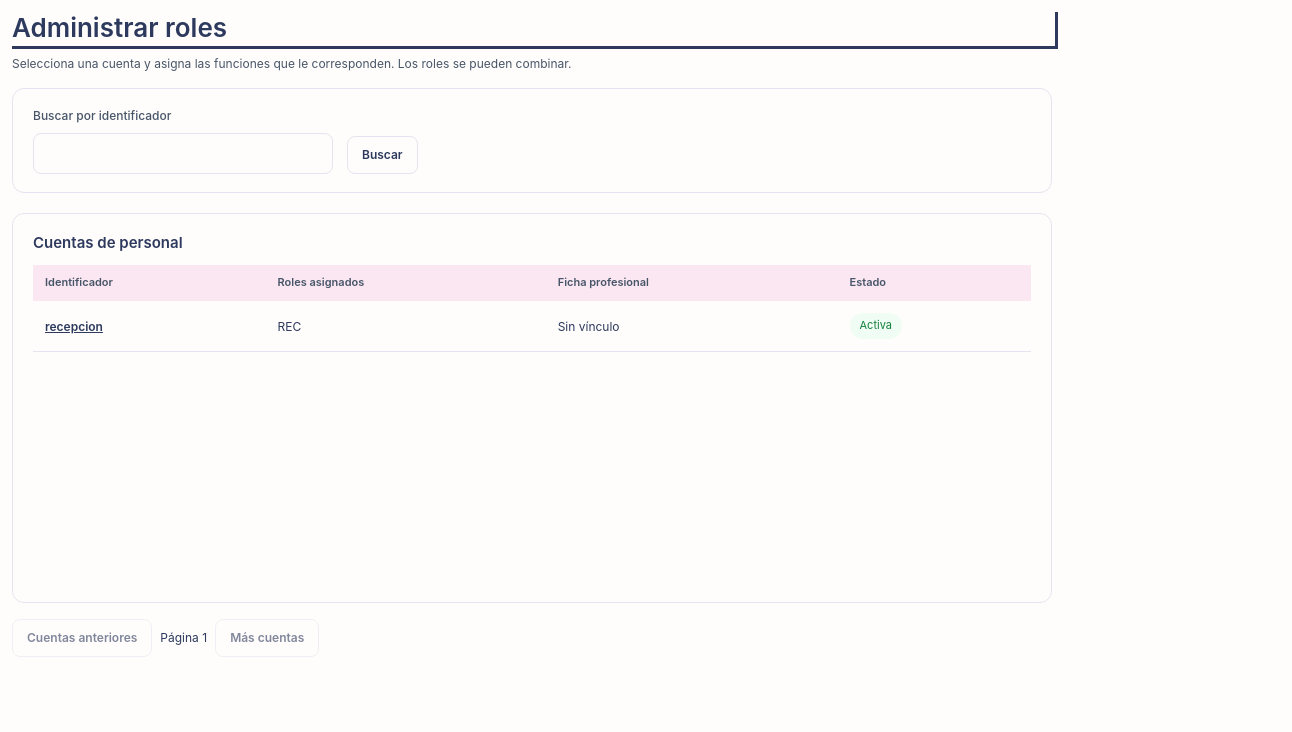
Test: Administración de roles › bloquea una edición obsoleta hasta recargar
The image size is (1292, 732).
Click the button with aria-label "recepcion · Activa" at (74, 326), box x1=45 y1=311 x2=103 y2=341
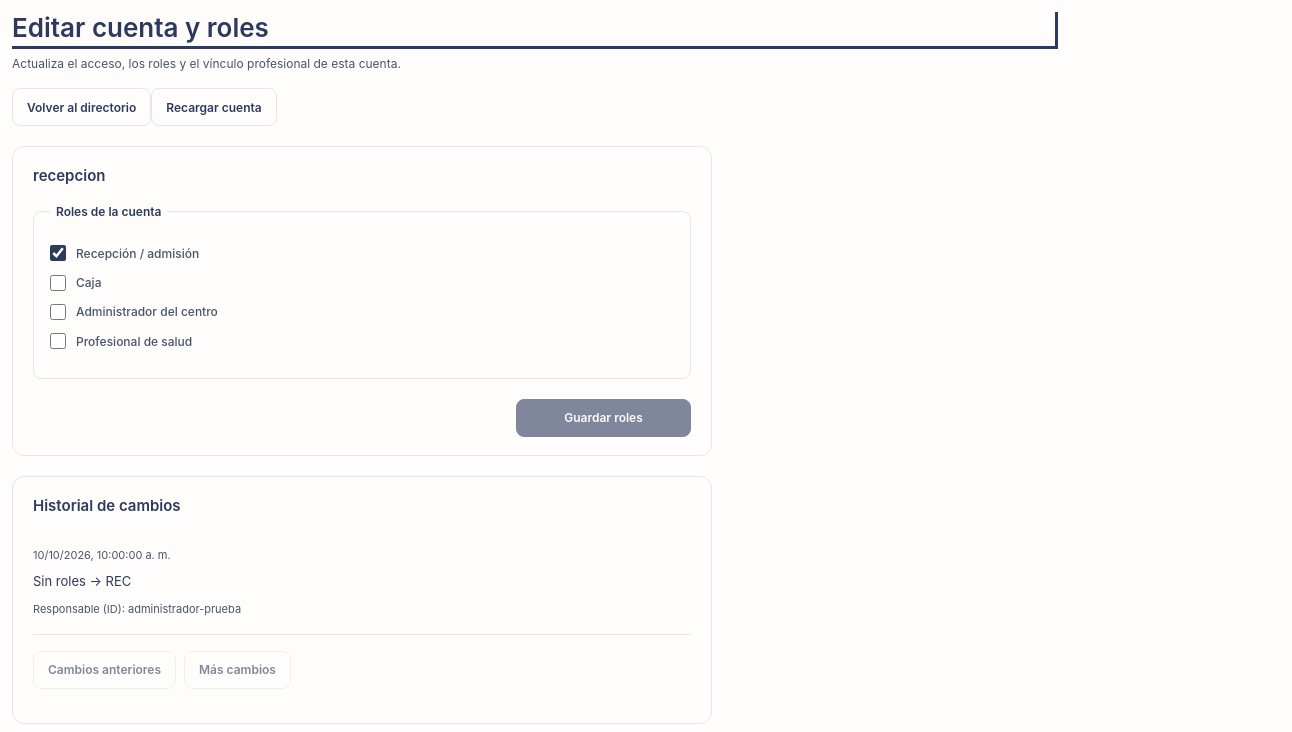
Now the checkbox labelled "Caja" is shown
Click the checkbox labelled "Caja" at (58, 283), box x1=50 y1=275 x2=66 y2=291
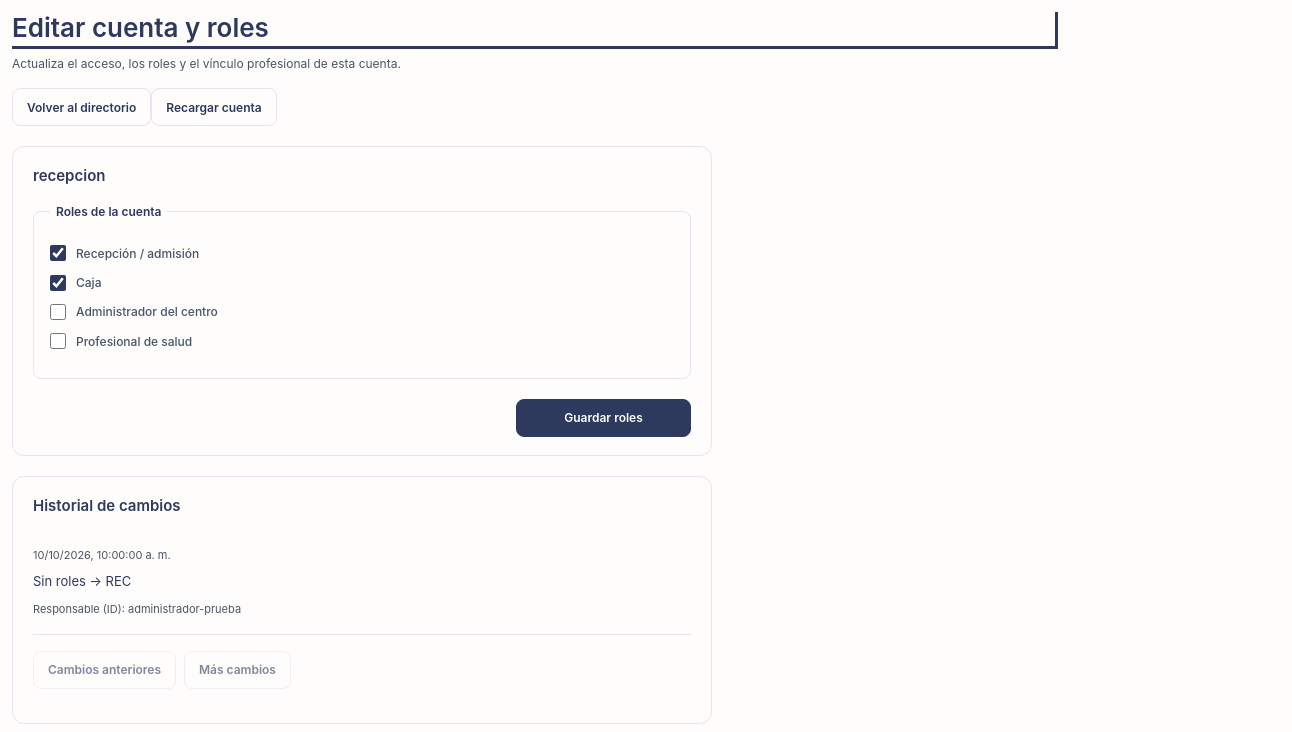
Click the button "Guardar roles" at (604, 418), box x1=516 y1=399 x2=691 y2=437
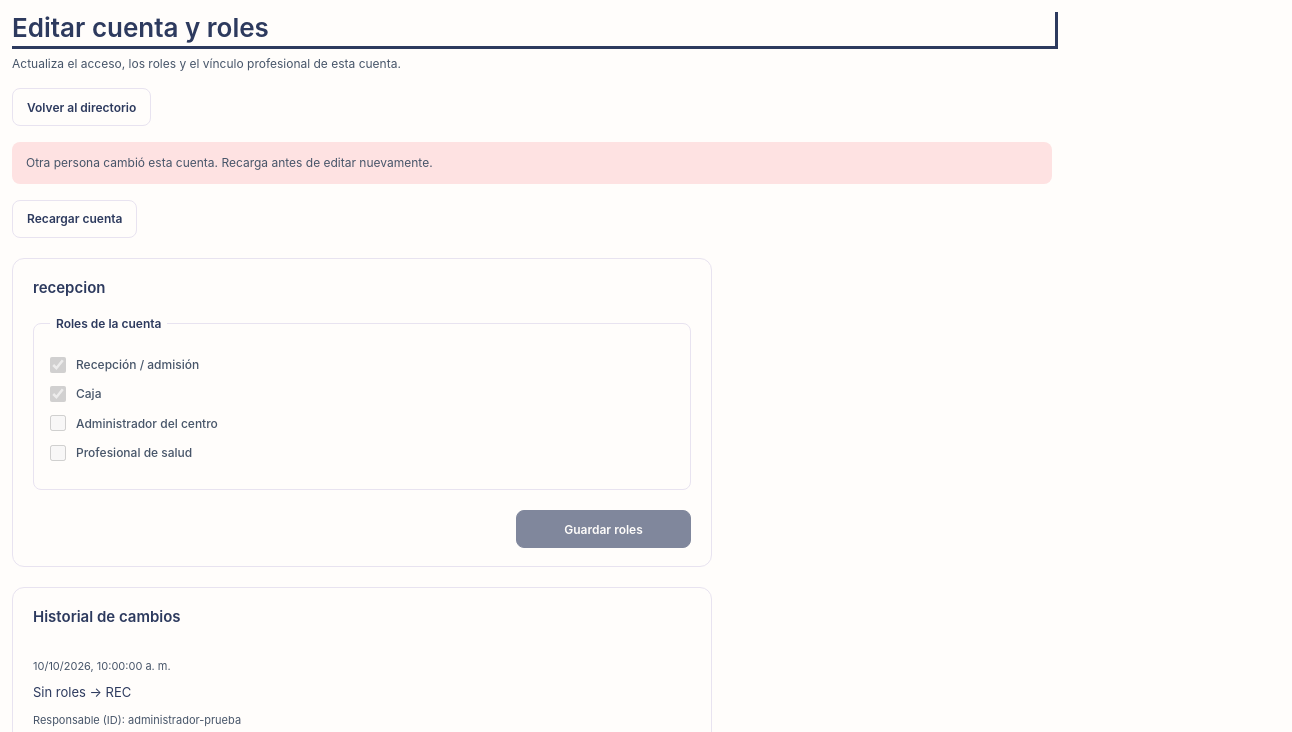
Now the message shows "Otra persona cambió", box x1=26 y1=155 x2=433 y2=170
Now the button "Guardar roles" is disabled, box x1=516 y1=510 x2=691 y2=548
Click the button "Recargar cuenta" at (75, 219), box x1=12 y1=200 x2=137 y2=238
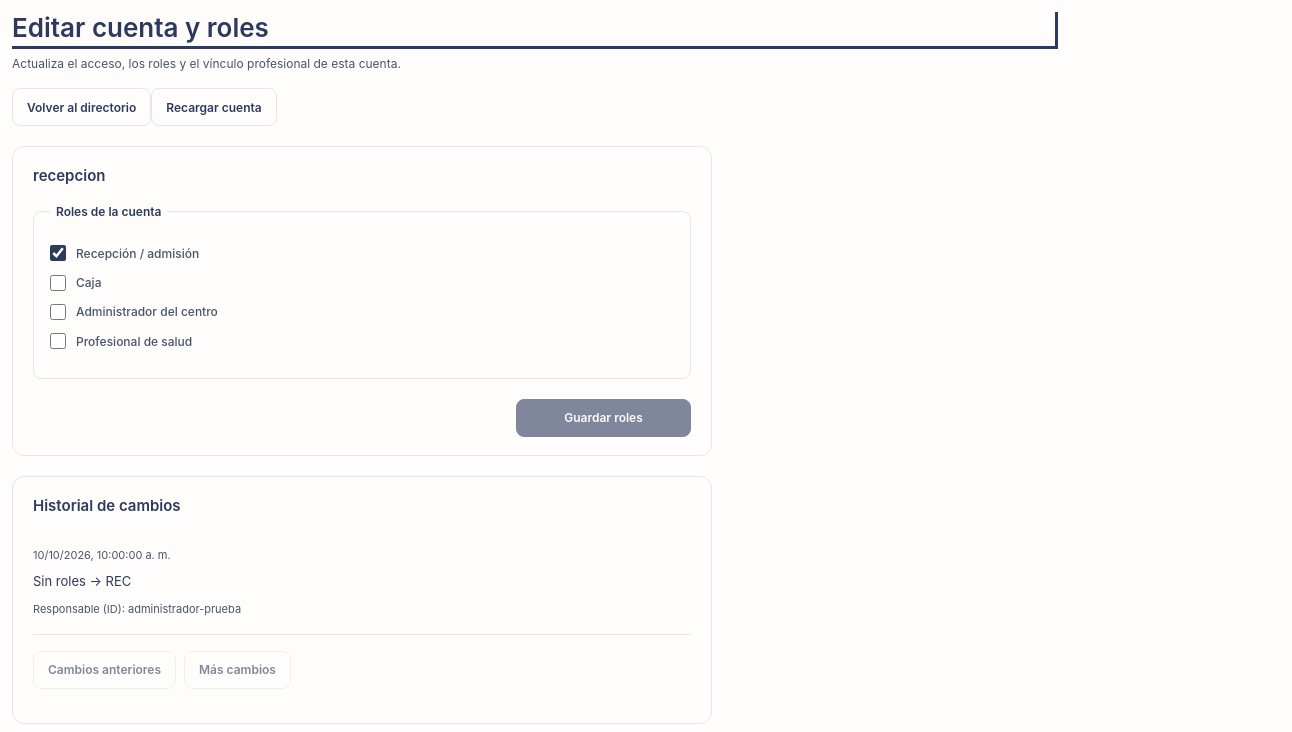
Now the checkbox labelled "Caja" is not checked, box x1=50 y1=275 x2=66 y2=291
